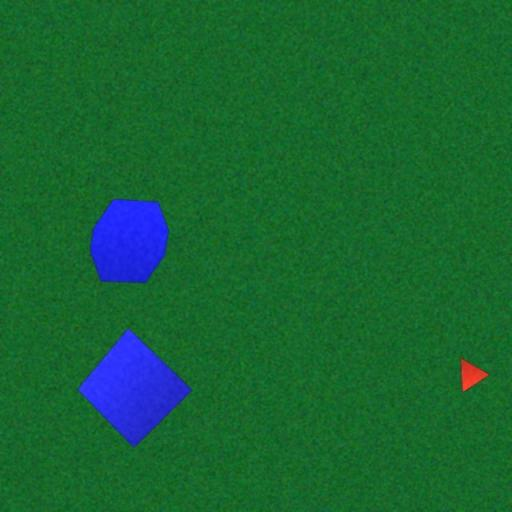BLUE_SQUARE: (76, 328, 194, 449)
